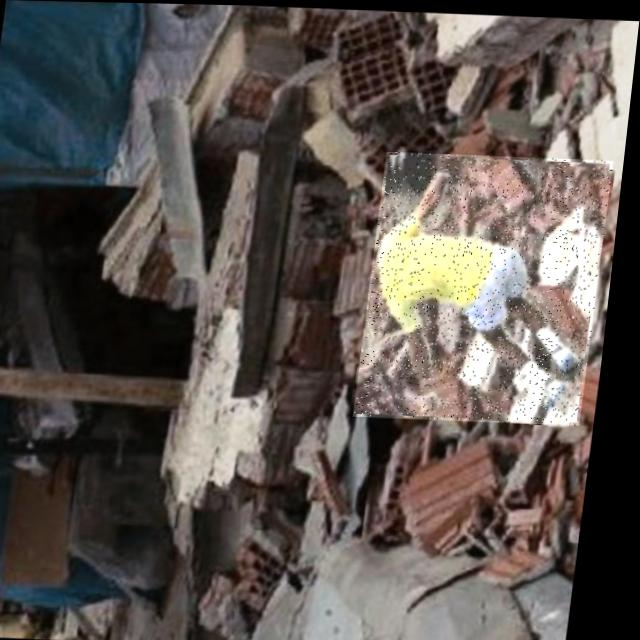Person in Rubble: (362, 148, 617, 421)
